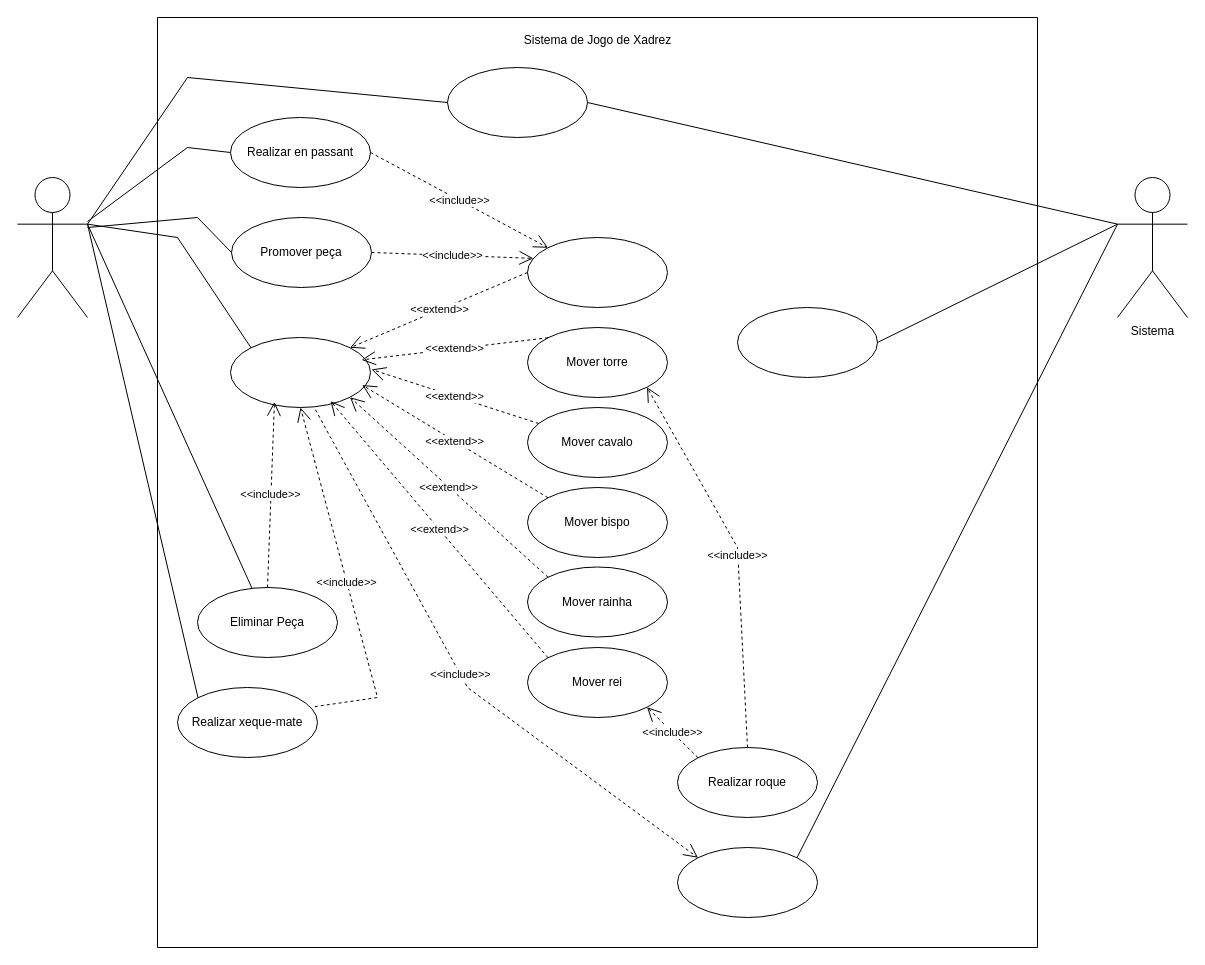
The diagram is 1205 pixels wide and 965 high, and some of its shapes have lost their labels. Here are the shapes that lost their labels. From the top down, the centre of each, then its label:
At [517,102]: "Iniciar partida".
At [52,247]: "Jogador".
At [597,272]: "Mover peão".
At [807,342]: "Terminar partida".
At [300,372]: "Mover peça".
At [747,882]: "Verificar movimento válido".
